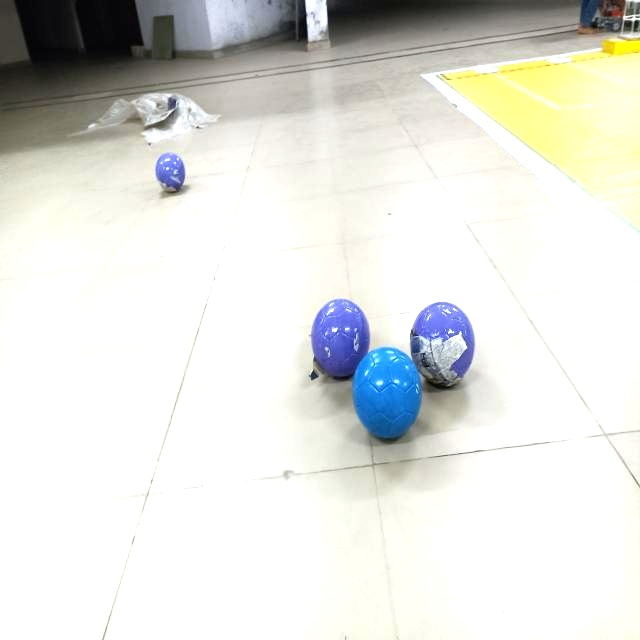blue_ball: (350, 350, 420, 435)
purple_ball: (410, 294, 476, 391), (309, 297, 370, 379), (156, 152, 186, 195)
